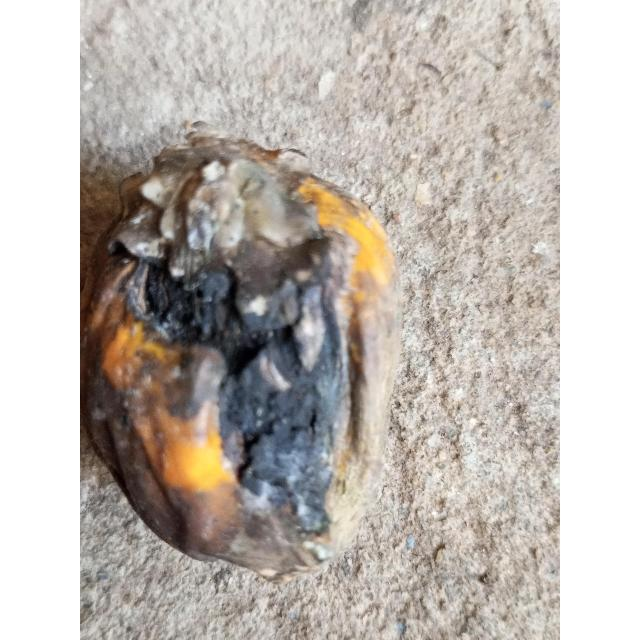damaged: (80, 127, 403, 583)
